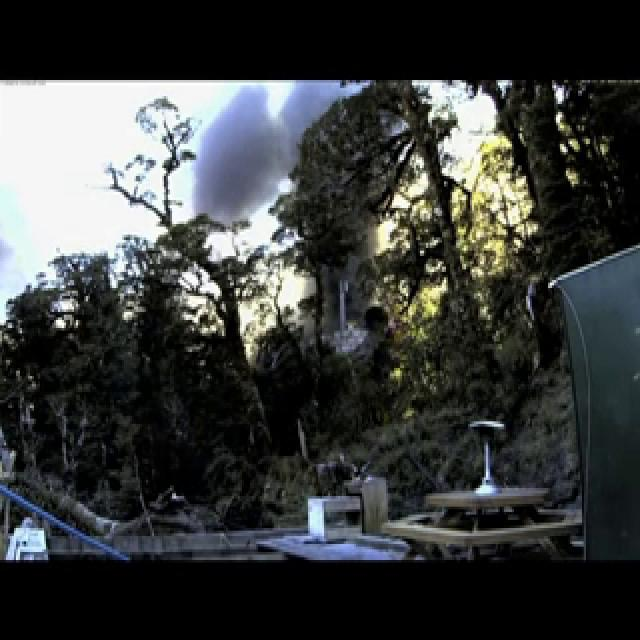explosion: (34, 2, 493, 542)
